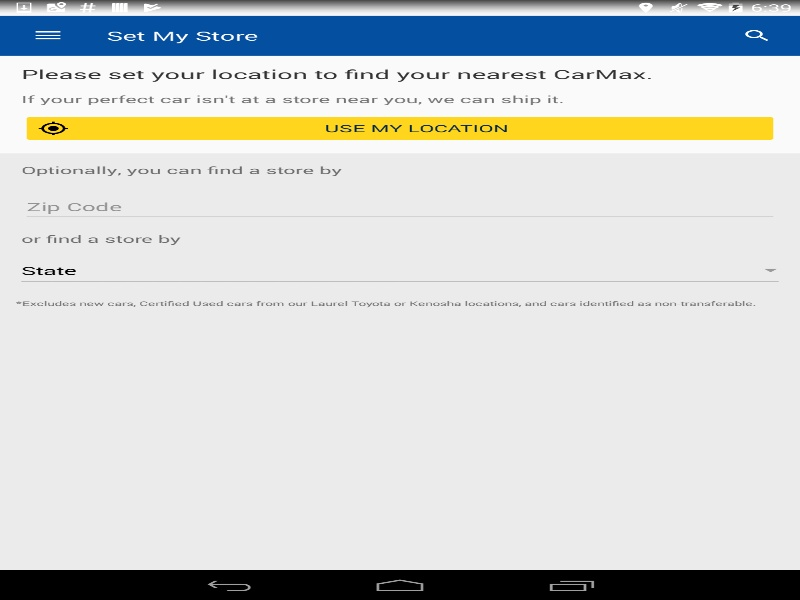Button: (21, 113, 778, 143), (10, 15, 85, 55)
Input: (21, 193, 778, 222)
